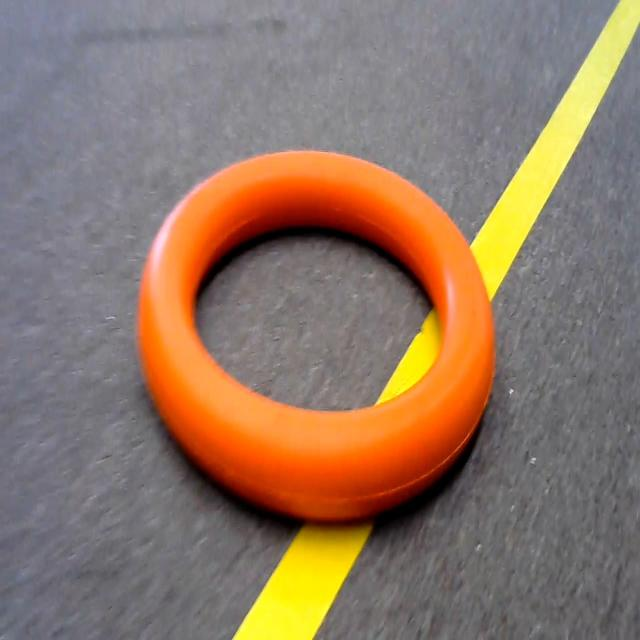note: (120, 111, 540, 534)
